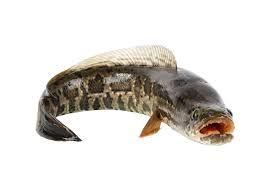Snakehead: (35, 43, 238, 151)
